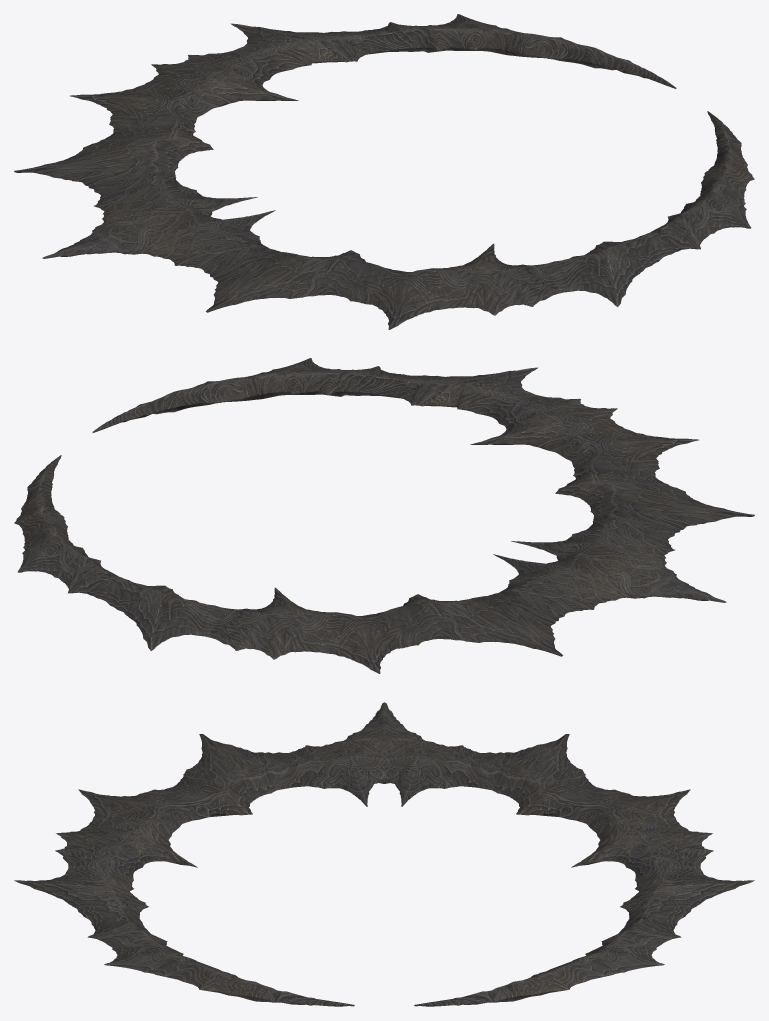
The model's file is bg_rad_kamen_floor03_sm.obj.
The picture shows the model from 3 angles, top to bottom: view 1: azimuth 30°, elevation 25°; view 2: azimuth 150°, elevation 25°; view 3: azimuth 270°, elevation 25°; orthographic projection. The views are drawn at different scales.
Parts seen in each view (by area): view 1: bg_rad_kamen_floor03_sm_0, bg_rad_kamen_floor03_sm_1; view 2: bg_rad_kamen_floor03_sm_0, bg_rad_kamen_floor03_sm_1; view 3: bg_rad_kamen_floor03_sm_1, bg_rad_kamen_floor03_sm_0.
Part boxes in pixels (x1=…): bg_rad_kamen_floor03_sm_0: x1=14, y1=70, x2=484, y2=329; bg_rad_kamen_floor03_sm_1: x1=151, y1=14, x2=754, y2=315; bg_rad_kamen_floor03_sm_0: x1=284, y1=414, x2=754, y2=673; bg_rad_kamen_floor03_sm_1: x1=14, y1=358, x2=617, y2=659; bg_rad_kamen_floor03_sm_1: x1=14, y1=793, x2=754, y2=1006; bg_rad_kamen_floor03_sm_0: x1=73, y1=702, x2=695, y2=832.
Size of the model in its own units: 49.24 by 1.87 by 50.77.
2 materials, 2 textured.
